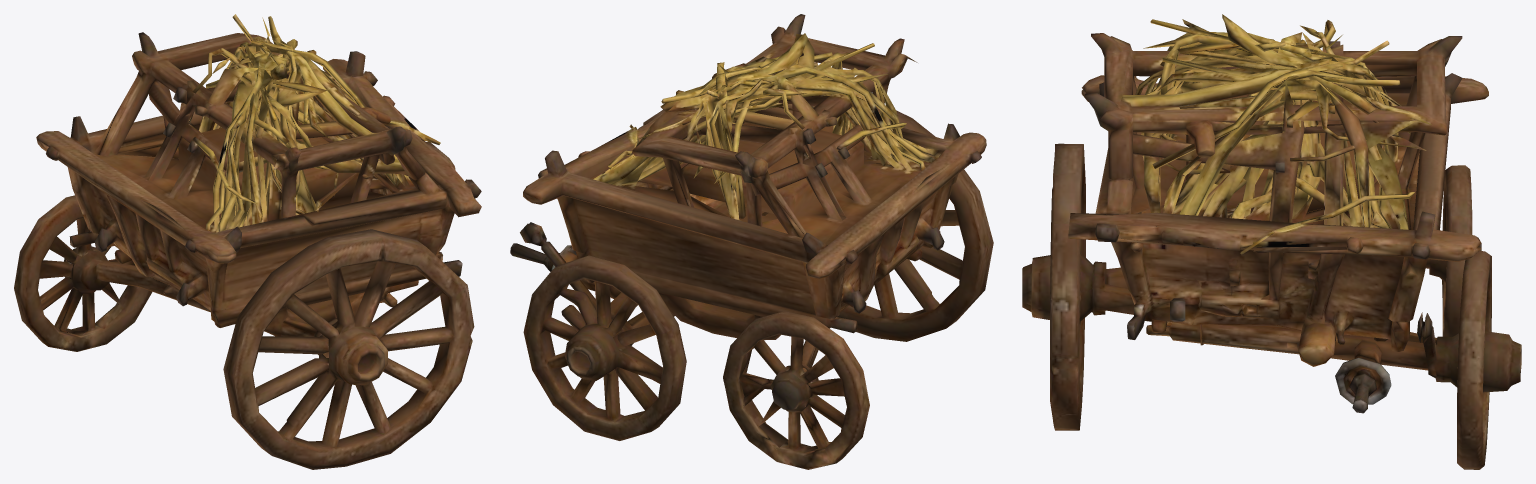
Rendered from cart.glb.
3 renders of one model, left to right at view 1: azimuth 30°, elevation 25°; view 2: azimuth 150°, elevation 25°; view 3: azimuth 270°, elevation 25°, orthographic. The views are drawn at different scales.
Visible parts, largest first — view 1: tripo_node_c69c7cb6-4909-4b15-a1a5-c16bdc0ad015; view 2: tripo_node_c69c7cb6-4909-4b15-a1a5-c16bdc0ad015; view 3: tripo_node_c69c7cb6-4909-4b15-a1a5-c16bdc0ad015.
Boxes of the visible parts, <box> form: tripo_node_c69c7cb6-4909-4b15-a1a5-c16bdc0ad015: <box>14,14,481,469</box>; tripo_node_c69c7cb6-4909-4b15-a1a5-c16bdc0ad015: <box>510,14,993,469</box>; tripo_node_c69c7cb6-4909-4b15-a1a5-c16bdc0ad015: <box>1022,14,1521,469</box>.
Size of the model in its own units: 0.9807 by 0.8271 by 0.9345.
Materials: 1 (1 with a texture image).
